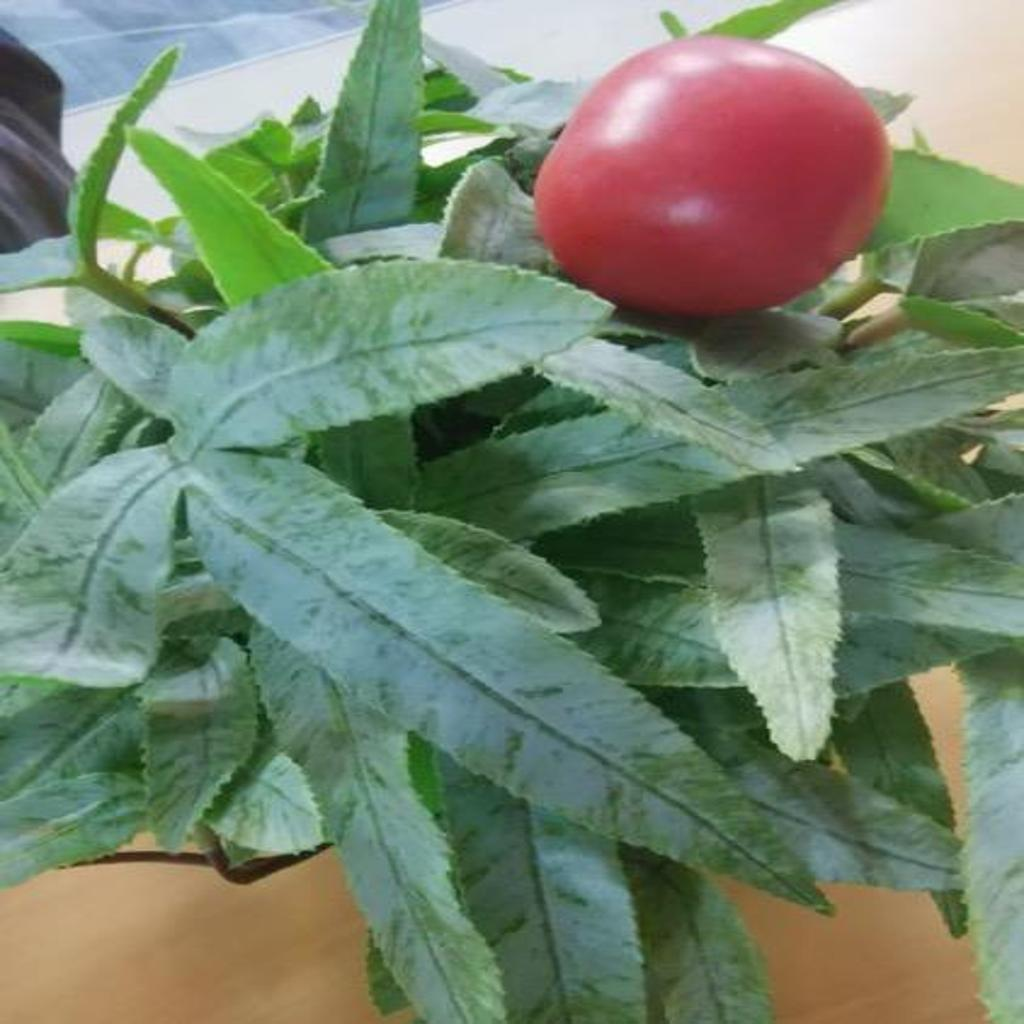tomato: (553, 33, 890, 320)
